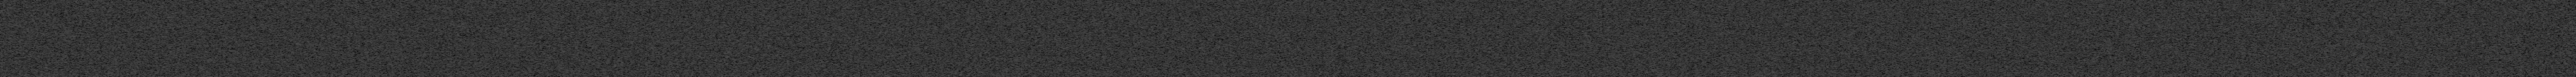wv_am: (161, 0, 164, 77)
wv_lsb: (136, 15, 140, 36), (136, 0, 140, 13), (135, 70, 140, 77), (136, 36, 138, 39)
wv_usb: (2063, 0, 2068, 77), (432, 0, 435, 77), (297, 0, 301, 77), (107, 44, 110, 77), (107, 25, 110, 43), (258, 28, 260, 51), (107, 0, 110, 8), (258, 52, 260, 69), (258, 11, 260, 26), (258, 0, 260, 11), (107, 20, 110, 25), (107, 13, 110, 18), (258, 69, 260, 77), (107, 8, 110, 11)
